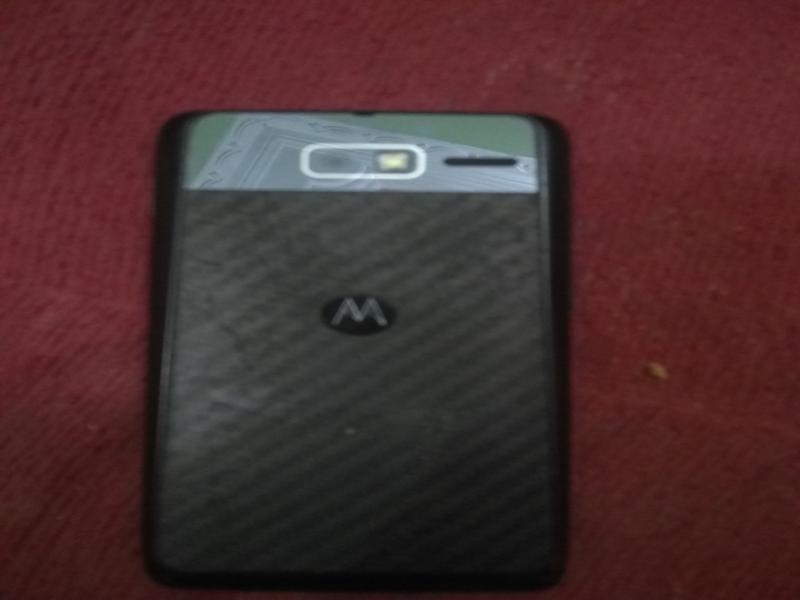moto: (159, 109, 568, 584)
